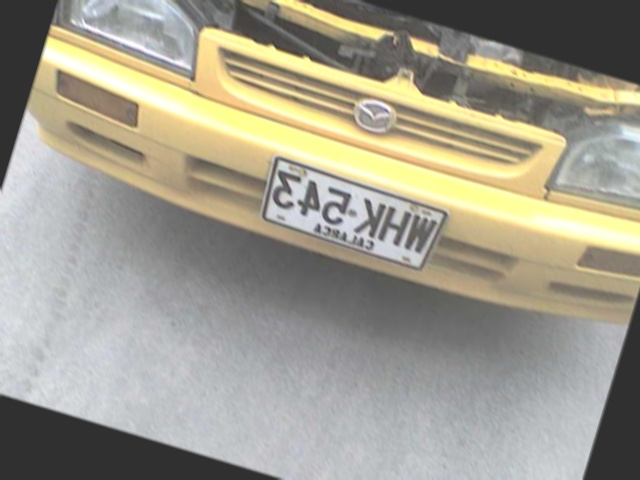placas: (252, 152, 454, 280)
